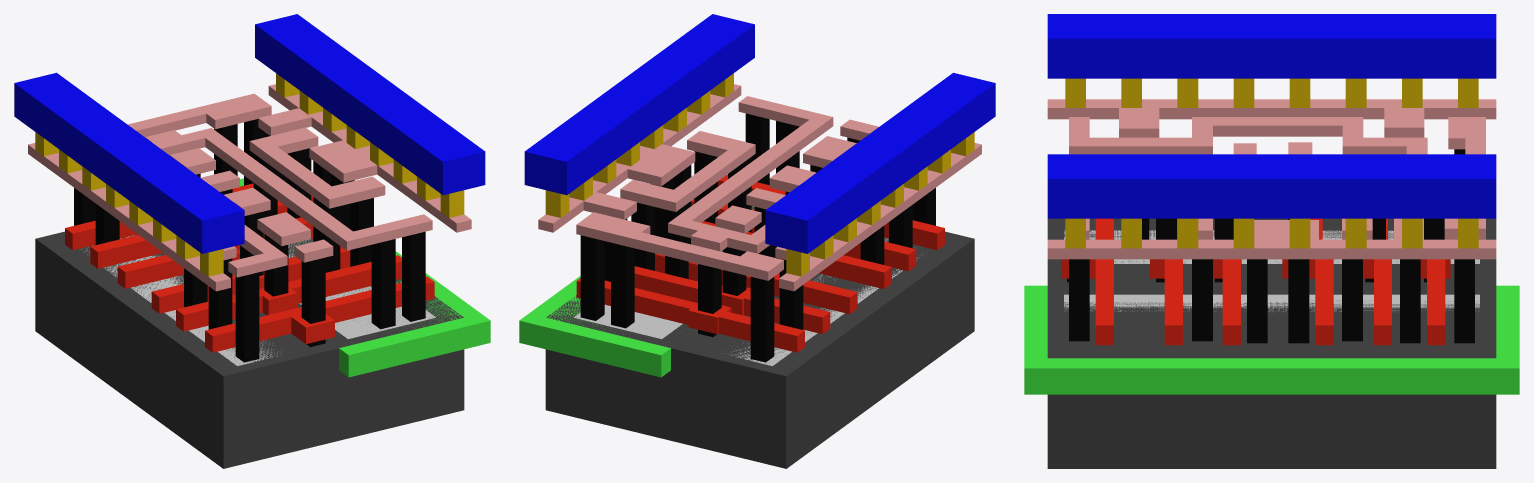
The model's file is sky130_fd_sc_hd__a311o_1.obj.
The picture shows the model from 3 angles, left to right: view 1: azimuth 30°, elevation 25°; view 2: azimuth 150°, elevation 25°; view 3: azimuth 270°, elevation 25°; orthographic projection. The views are drawn at different scales.
Parts seen in each view (by area): view 1: subs, metal1, li, licon, poly, nwell, mcon, diff, tap; view 2: subs, metal1, li, licon, poly, nwell, mcon, tap, diff; view 3: metal1, subs, li, nwell, licon, poly, mcon, tap, diff.
Part boxes in pixels (left/top/right/bottom): subs: left=35, top=231, right=464, bottom=468; metal1: left=14, top=14, right=485, bottom=253; li: left=28, top=84, right=471, bottom=291; licon: left=74, top=119, right=425, bottom=362; poly: left=65, top=183, right=434, bottom=352; nwell: left=240, top=178, right=490, bottom=377; mcon: left=35, top=73, right=464, bottom=276; diff: left=81, top=235, right=280, bottom=365; tap: left=288, top=240, right=435, bottom=338; subs: left=545, top=206, right=974, bottom=468; metal1: left=524, top=14, right=995, bottom=253; li: left=538, top=84, right=981, bottom=291; licon: left=580, top=113, right=935, bottom=362; poly: left=576, top=175, right=944, bottom=352; nwell: left=519, top=174, right=727, bottom=377; mcon: left=545, top=73, right=974, bottom=276; tap: left=574, top=206, right=752, bottom=338; diff: left=729, top=238, right=923, bottom=365; metal1: left=1047, top=14, right=1496, bottom=218; subs: left=1047, top=218, right=1496, bottom=468; li: left=1047, top=99, right=1496, bottom=259; nwell: left=1024, top=285, right=1519, bottom=394; licon: left=1067, top=149, right=1474, bottom=343; poly: left=1061, top=218, right=1450, bottom=345; mcon: left=1065, top=78, right=1478, bottom=248; tap: left=1064, top=294, right=1479, bottom=311; diff: left=1064, top=230, right=1479, bottom=263.
Bounding box in the file's own units: 3.2 × 2.74 × 4.06.
